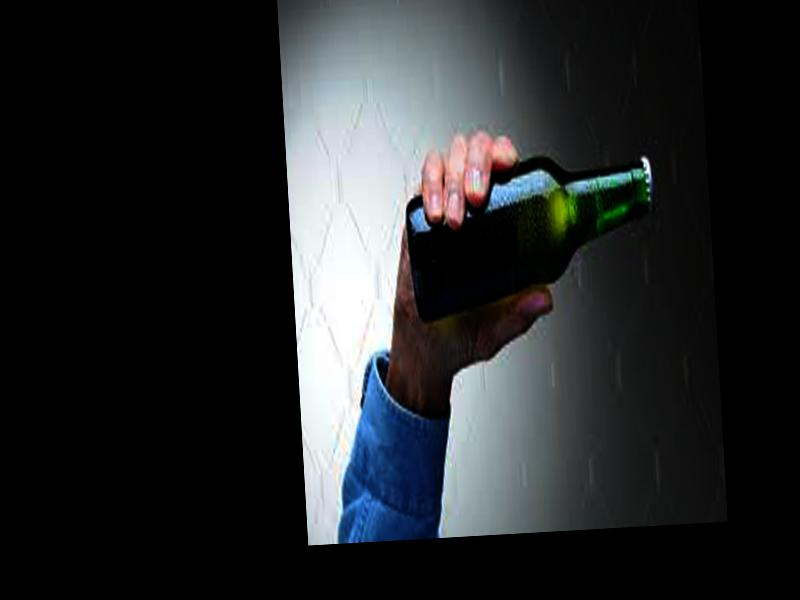Beer: (404, 143, 657, 325)
